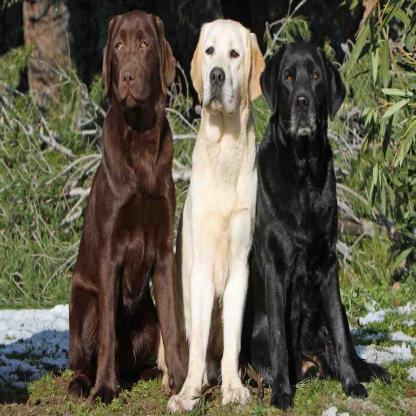Labarador Retriever: (154, 22, 267, 408), (67, 10, 176, 408), (254, 37, 358, 401)
